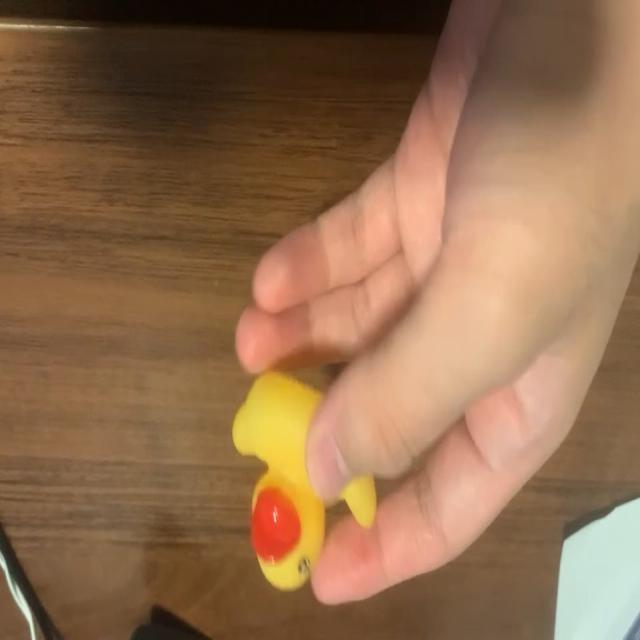rubber-duck: (231, 370, 323, 588), (341, 474, 374, 524)
